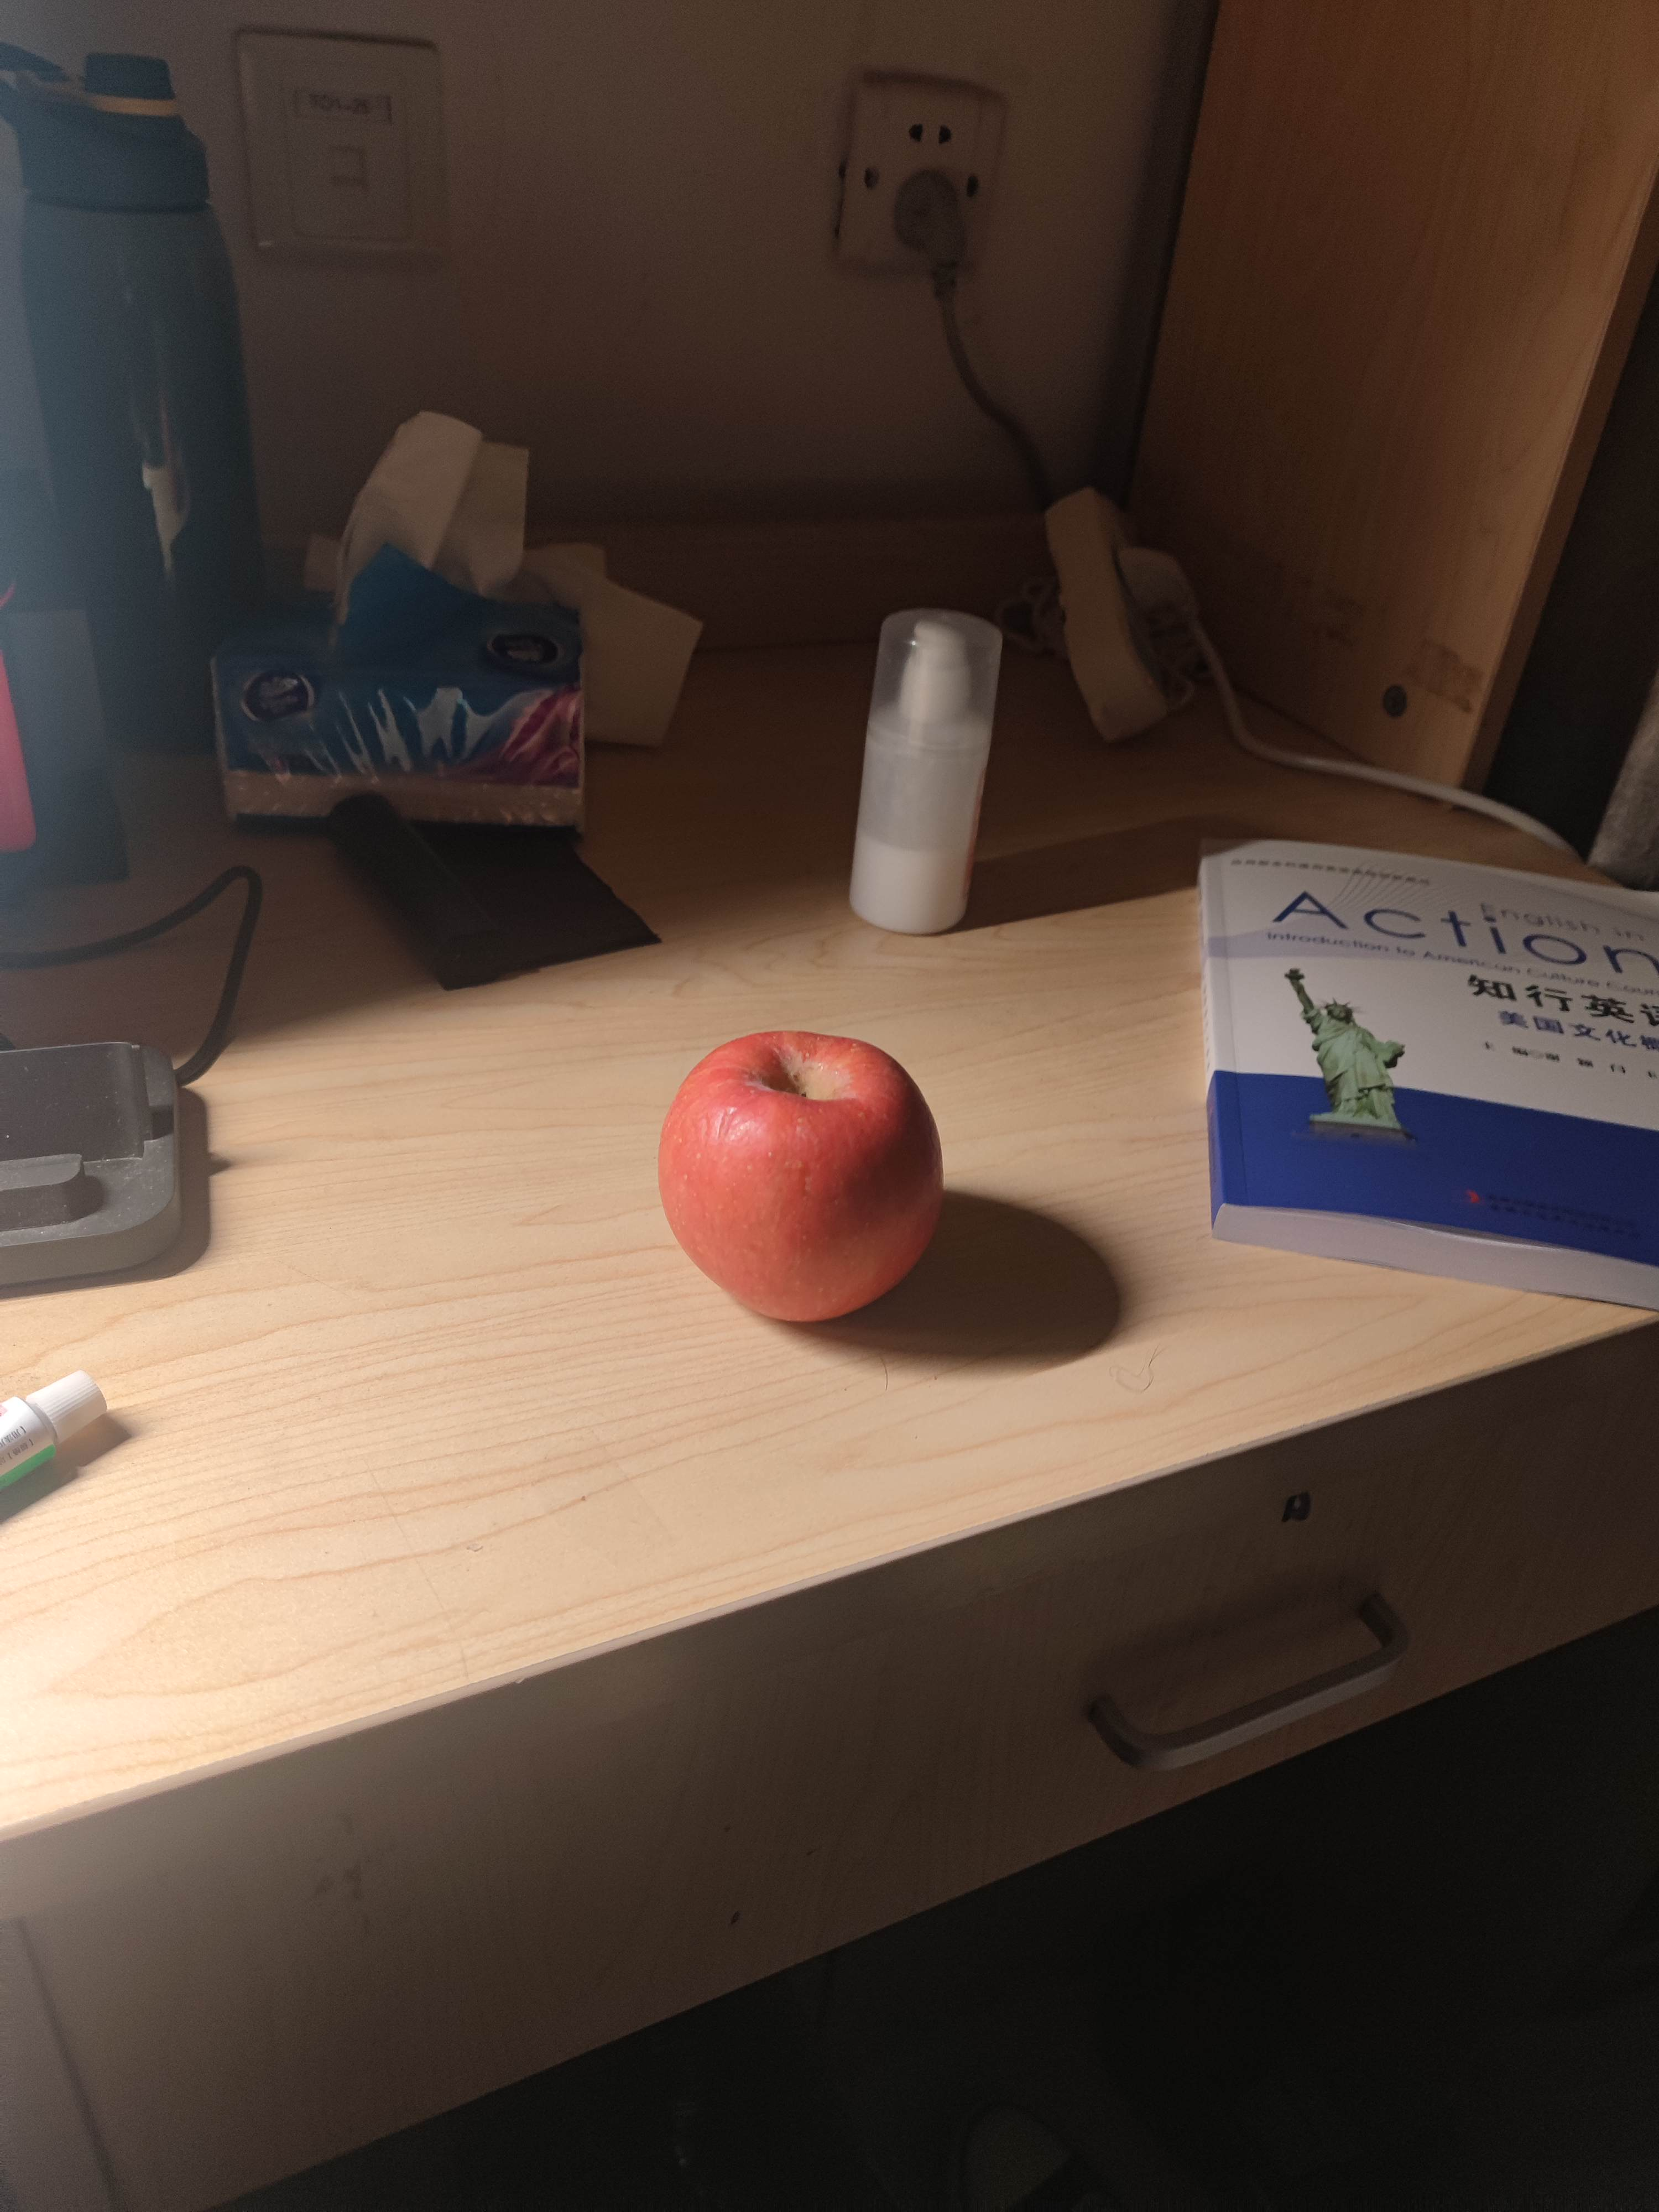apple: (660, 1026, 946, 1322)
